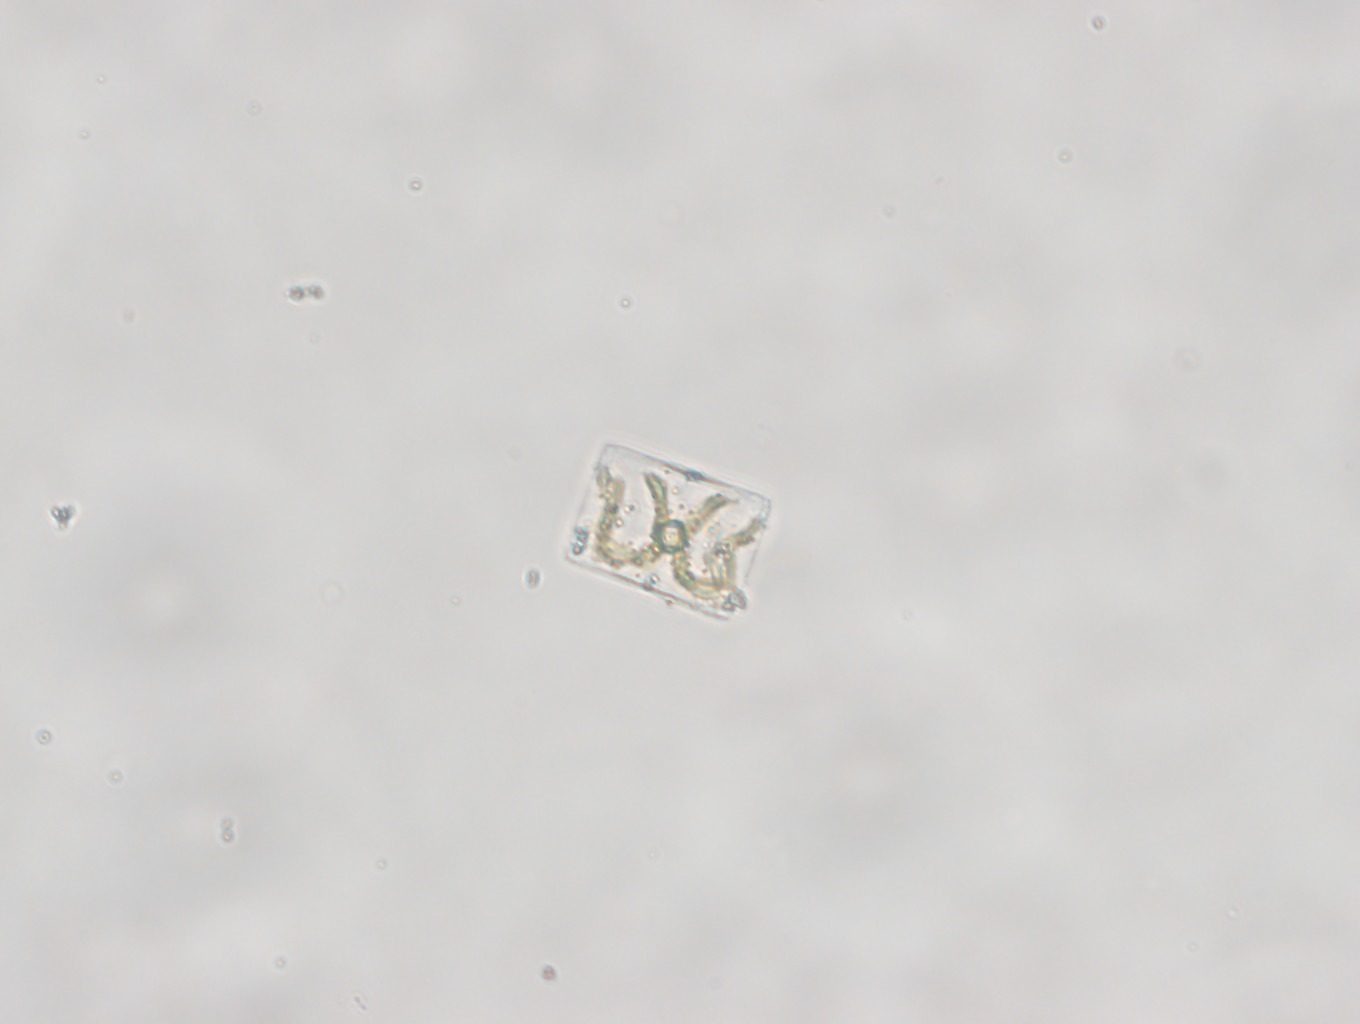guinardia flaccida: (559, 433, 778, 630)
